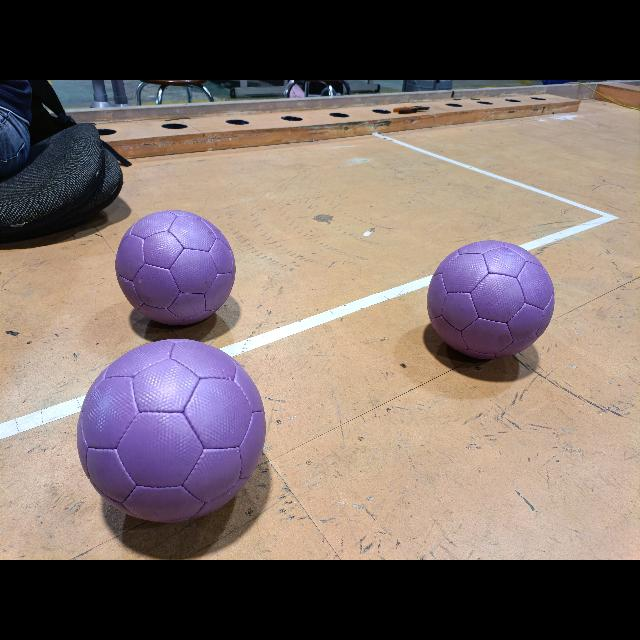P: (77, 339, 266, 523), (428, 240, 554, 358), (115, 210, 235, 324)
